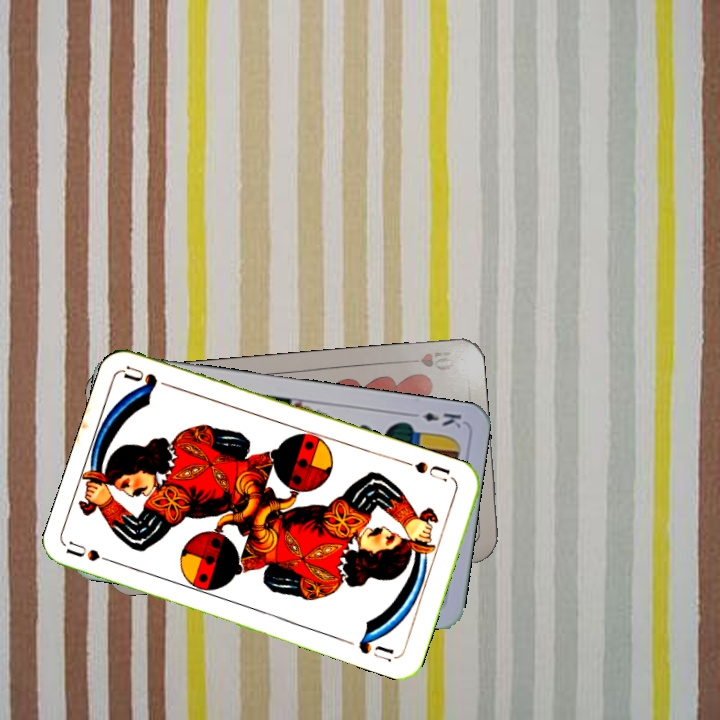EK: (405, 408, 464, 431)
H10: (417, 349, 458, 373)
SU: (64, 538, 123, 568), (400, 456, 457, 485)
